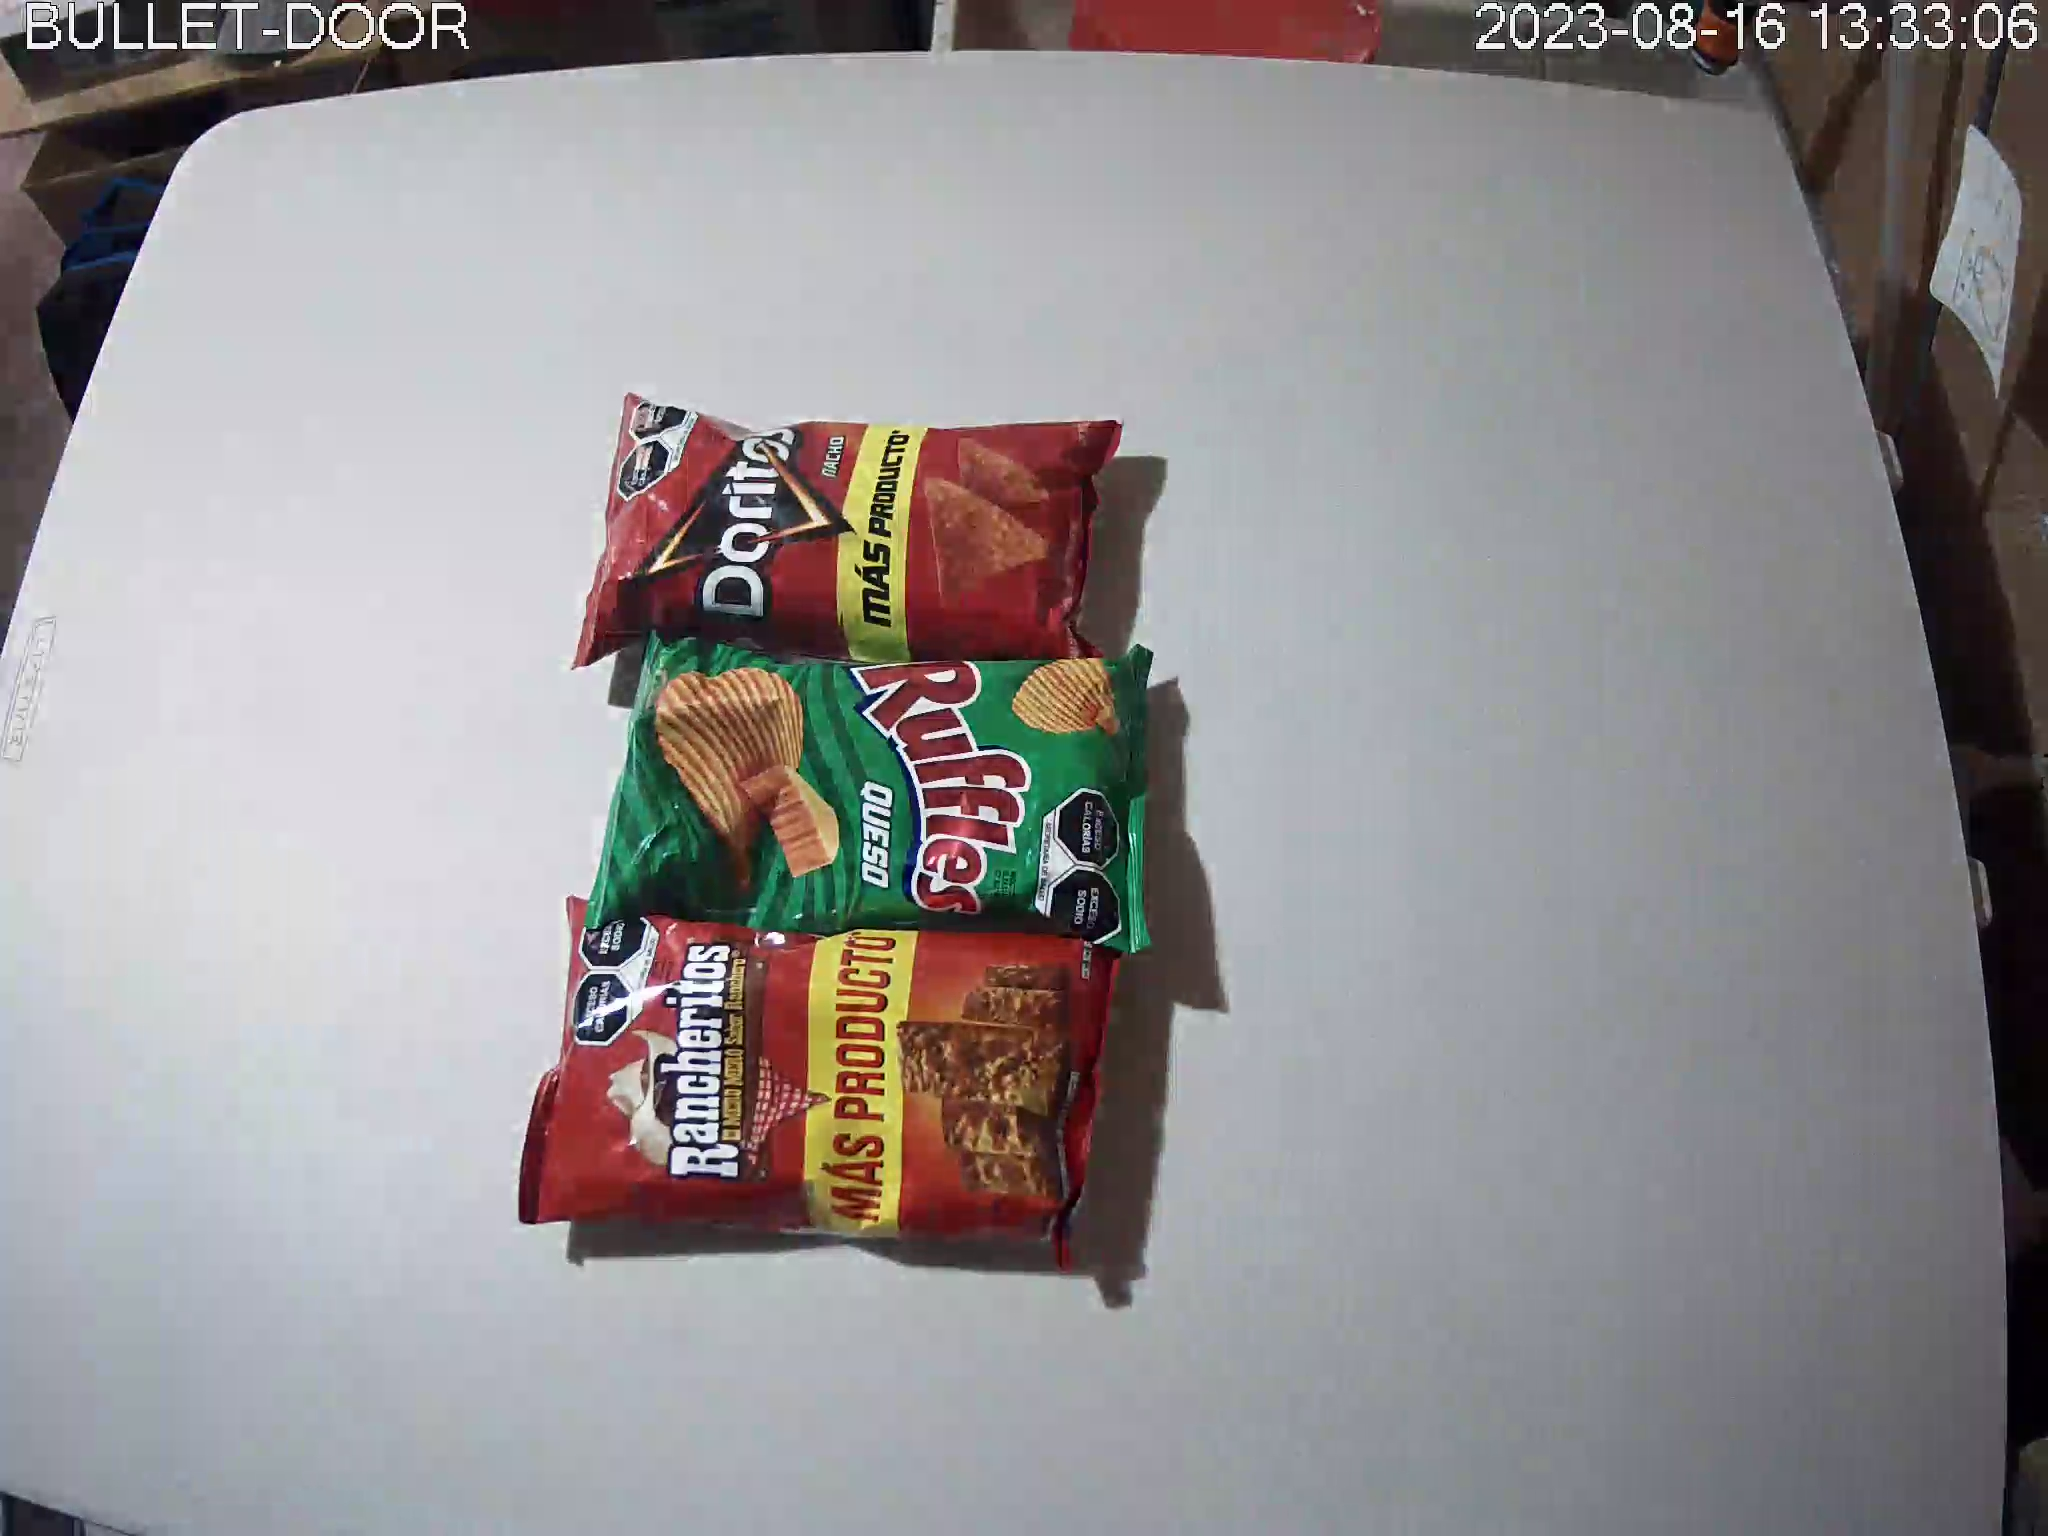DoritosN_61_F: (571, 395, 1126, 665)
Rancheritos_58_F: (519, 897, 1121, 1273)
RufflesQ_48_F: (584, 629, 1156, 958)
